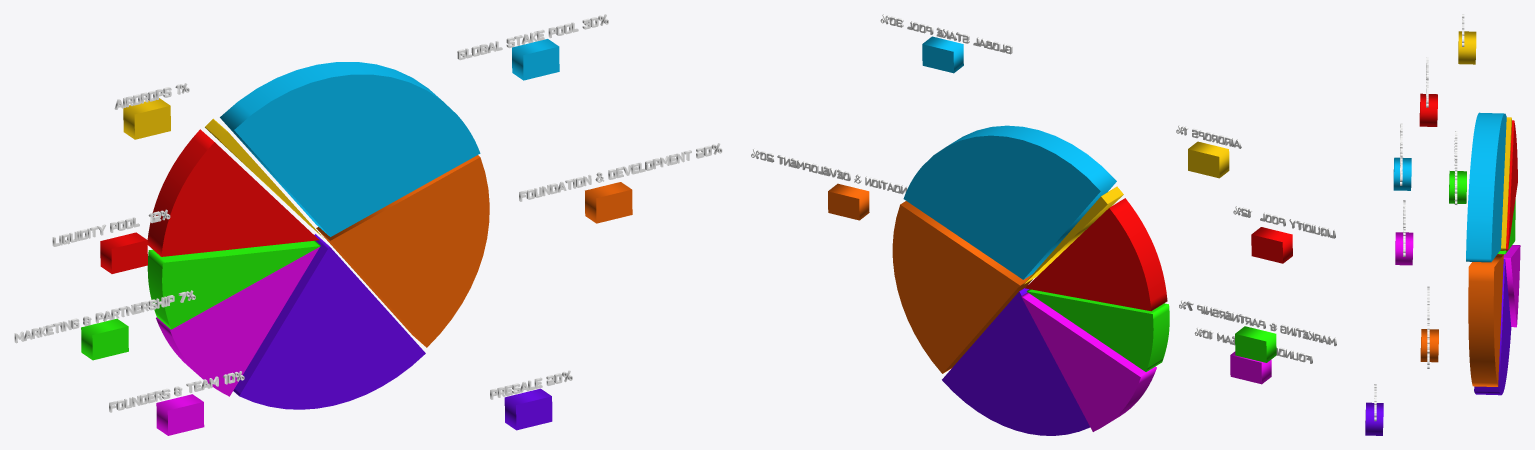
The model's file is pie_chart_with_details.glb.
3 views of the same model, side by side, from view 1: azimuth 30°, elevation 25°; view 2: azimuth 150°, elevation 25°; view 3: azimuth 270°, elevation 25° (orthographic). The views are drawn at different scales.
Visible parts, largest first — view 1: Curve.125, Curve.130, Curve.131, Curve.127, Curve.129, Curve.128, Curve.106, Curve.003, Curve.004, Curve.001, Curve.005, Curve.006 (+9 smaller); view 2: Curve.125, Curve.131, Curve.130, Curve.127, Curve.129, Curve.128, Curve.126, Curve.001, Curve.005, Curve, Curve.002, Curve.006 (+6 smaller); view 3: Curve.125, Curve.131, Curve.130, Curve.129, Curve.127, Curve.126, Curve.004, Curve, Curve.001, Curve.003, Curve.005, Curve.006 (+6 smaller).
Boxes of the visible parts, x1,y1,x2,y2 form: Curve.125: [220, 62, 480, 236]; Curve.130: [233, 234, 425, 409]; Curve.131: [316, 155, 489, 347]; Curve.127: [147, 129, 319, 256]; Curve.129: [156, 247, 319, 396]; Curve.128: [147, 240, 320, 329]; Curve.106: [519, 143, 722, 201]; Curve.003: [156, 394, 204, 435]; Curve.004: [504, 388, 552, 430]; Curve.001: [100, 232, 147, 273]; Curve.005: [585, 182, 632, 223]; Curve.006: [512, 39, 559, 80]; Curve.125: [903, 125, 1116, 279]; Curve.131: [892, 201, 1032, 373]; Curve.130: [942, 288, 1090, 435]; Curve.127: [1025, 198, 1167, 311]; Curve.129: [1021, 292, 1156, 431]; Curve.128: [1026, 289, 1169, 371]; Curve.126: [1023, 186, 1123, 284]; Curve.001: [1251, 227, 1292, 263]; Curve.005: [828, 183, 869, 220]; Curve: [1188, 141, 1229, 178]; Curve.002: [1235, 326, 1276, 362]; Curve.006: [922, 36, 963, 73]; Curve.125: [1466, 112, 1506, 262]; Curve.131: [1468, 254, 1503, 386]; Curve.130: [1474, 259, 1511, 395]; Curve.129: [1499, 245, 1520, 327]; Curve.127: [1500, 120, 1517, 250]; Curve.126: [1501, 117, 1511, 250]; Curve.004: [1365, 402, 1383, 435]; Curve: [1458, 31, 1476, 64]; Curve.001: [1419, 93, 1437, 126]; Curve.003: [1395, 232, 1413, 265]; Curve.005: [1420, 329, 1438, 362]; Curve.006: [1393, 157, 1411, 190].
Bounding box in the file's own units: 3.69 × 1.92 × 0.9325.
